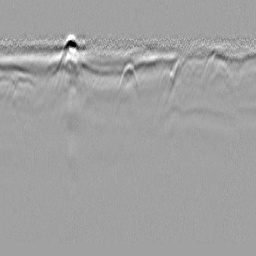cavity: (116, 57, 140, 98)
